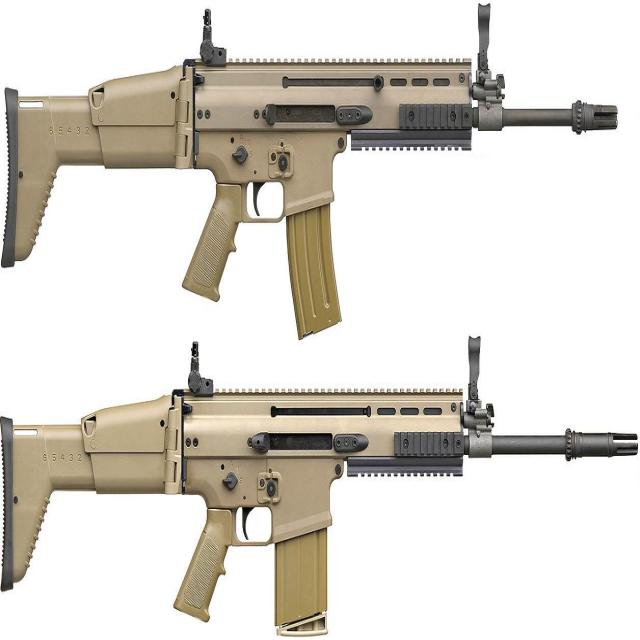Rifle: (0, 0, 622, 340), (0, 335, 640, 640)
